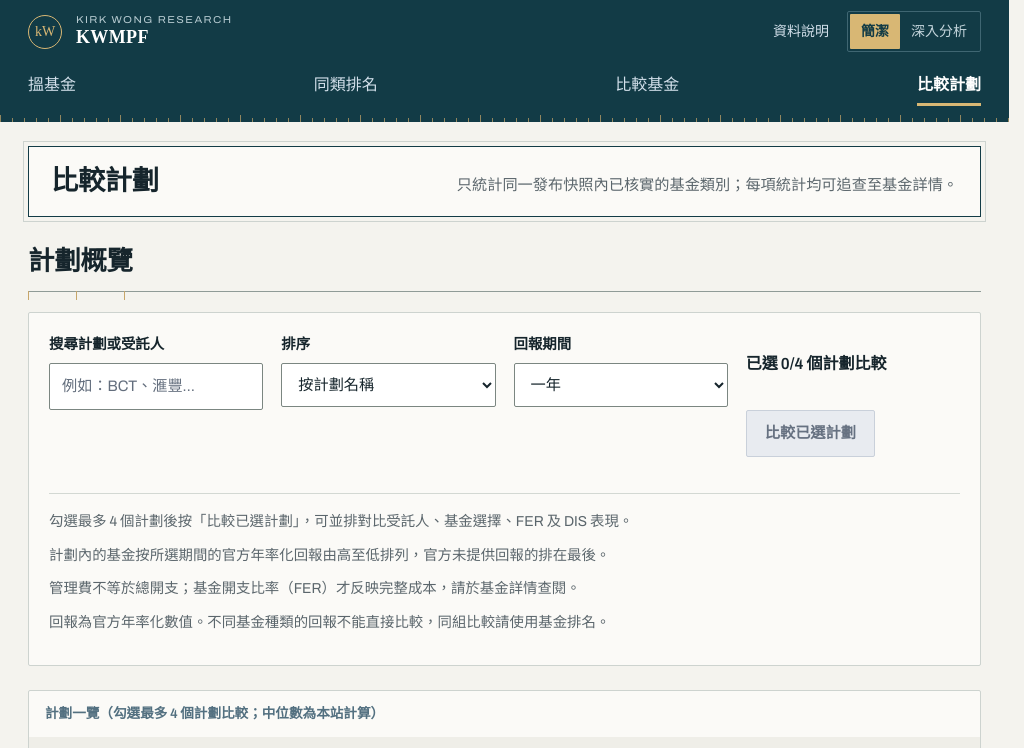
Test case: scheme fund returns › says how many funds carry the selected horizon
The image size is (1024, 748).
Select "五年" in the dropdown labelled "回報期間": (621, 385) left=514, top=363, right=728, bottom=407
(page scrolled)
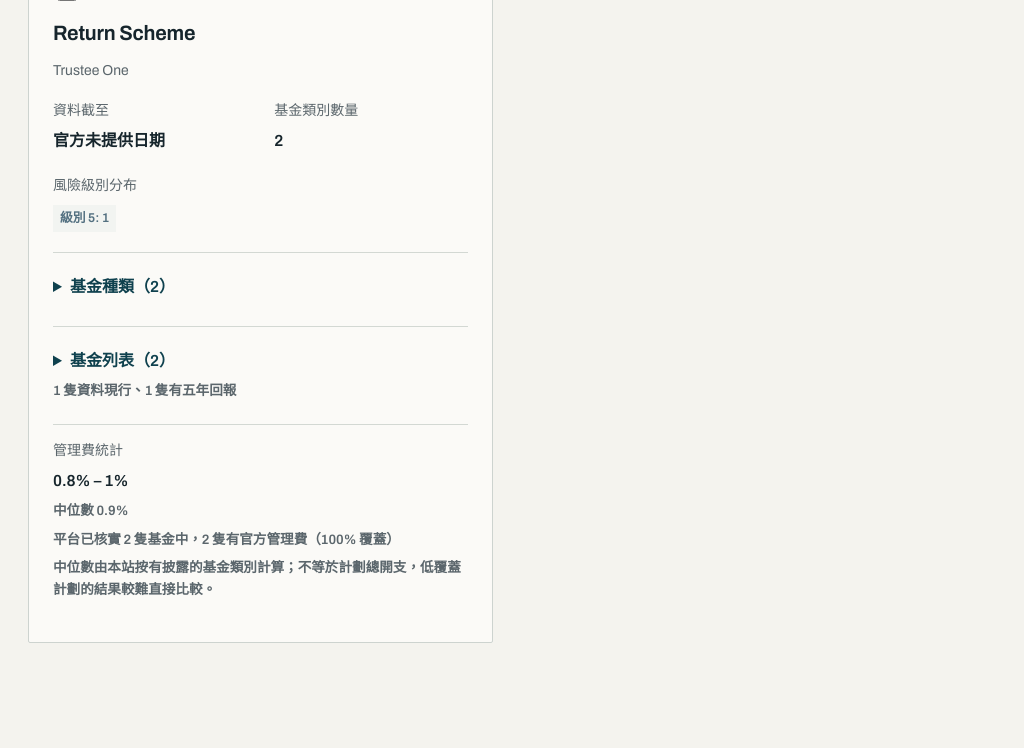
Check: the text "1 隻資料現行、1 隻有五年回報" is shown, box left=53, top=383, right=236, bottom=398
